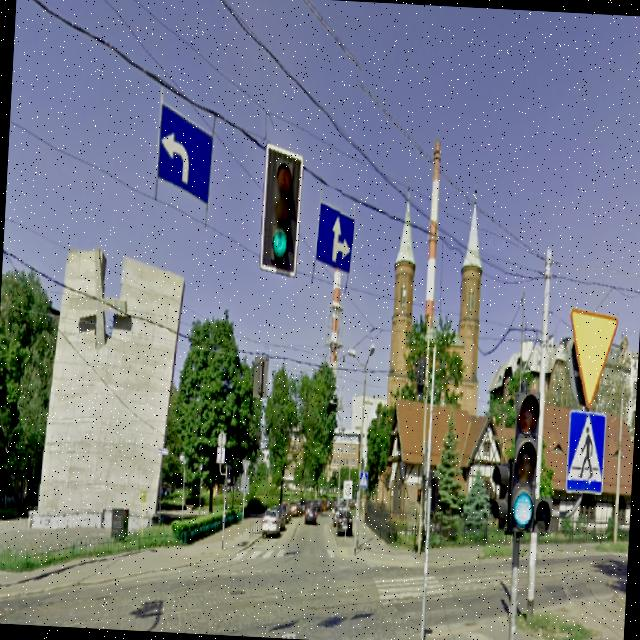Przejscie dla pieszych: (565, 409, 606, 494), (360, 469, 369, 488)
Ustap pierwszenstwa: (565, 308, 616, 407)
